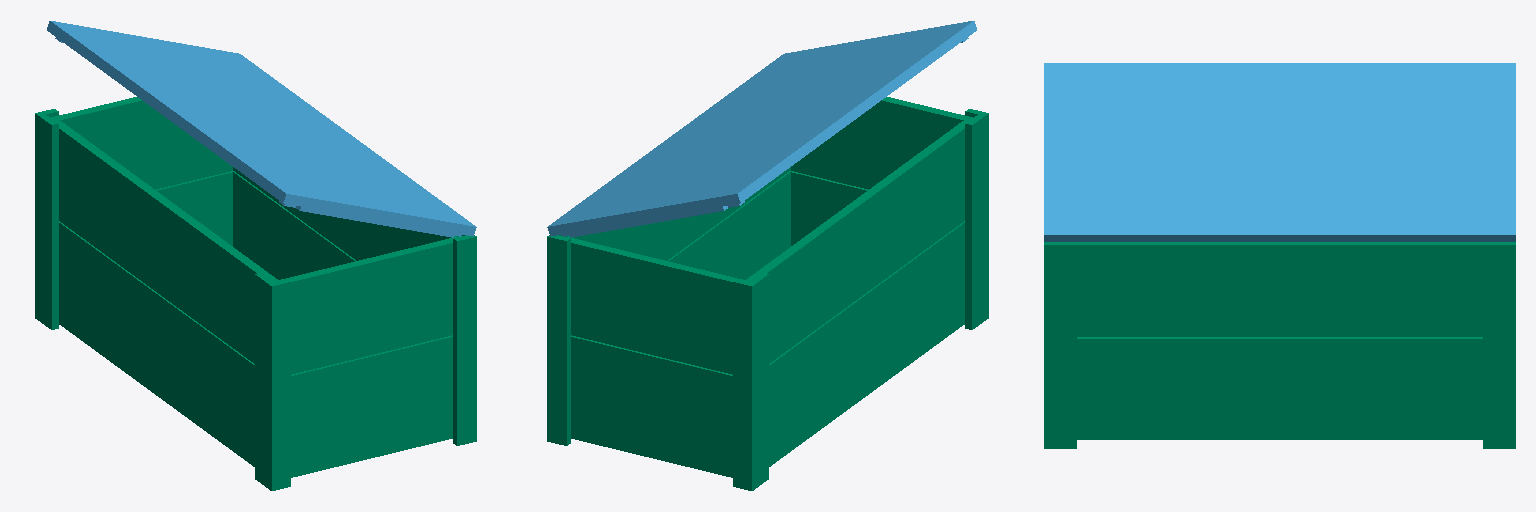
robot.urdf — partnet_ec82368d9dd6c6191503e17202cee2a3:
<?xml version="1.0" ?>
<robot name="partnet_ec82368d9dd6c6191503e17202cee2a3">
	<link name="base"/>
	<link name="link_0">
		<visual name="rotation_lid-1">
			<origin xyz="-0.8074719999999997 -0.2824324500270001 0.3838060606535223"/>
			<geometry>
				<mesh filename="textured_objs/original-24.obj"/>
			</geometry>
		</visual>
		<visual name="rotation_lid-1">
			<origin xyz="-0.8074719999999997 -0.2824324500270001 0.3838060606535223"/>
			<geometry>
				<mesh filename="textured_objs/original-30.obj"/>
			</geometry>
		</visual>
		<visual name="rotation_lid-1">
			<origin xyz="-0.8074719999999997 -0.2824324500270001 0.3838060606535223"/>
			<geometry>
				<mesh filename="textured_objs/original-26.obj"/>
			</geometry>
		</visual>
		<visual name="rotation_lid-1">
			<origin xyz="-0.8074719999999997 -0.2824324500270001 0.3838060606535223"/>
			<geometry>
				<mesh filename="textured_objs/original-29.obj"/>
			</geometry>
		</visual>
		<visual name="rotation_lid-1">
			<origin xyz="-0.8074719999999997 -0.2824324500270001 0.3838060606535223"/>
			<geometry>
				<mesh filename="textured_objs/original-31.obj"/>
			</geometry>
		</visual>
		<visual name="rotation_lid-1">
			<origin xyz="-0.8074719999999997 -0.2824324500270001 0.3838060606535223"/>
			<geometry>
				<mesh filename="textured_objs/original-32.obj"/>
			</geometry>
		</visual>
		<visual name="rotation_lid-1">
			<origin xyz="-0.8074719999999997 -0.2824324500270001 0.3838060606535223"/>
			<geometry>
				<mesh filename="textured_objs/original-25.obj"/>
			</geometry>
		</visual>
		<visual name="rotation_lid-1">
			<origin xyz="-0.8074719999999997 -0.2824324500270001 0.3838060606535223"/>
			<geometry>
				<mesh filename="textured_objs/original-27.obj"/>
			</geometry>
		</visual>
		<visual name="rotation_lid-1">
			<origin xyz="-0.8074719999999997 -0.2824324500270001 0.3838060606535223"/>
			<geometry>
				<mesh filename="textured_objs/original-28.obj"/>
			</geometry>
		</visual>
		<collision>
			<origin xyz="-0.8074719999999997 -0.2824324500270001 0.3838060606535223"/>
			<geometry>
				<mesh filename="textured_objs/original-24.obj"/>
			</geometry>
		</collision>
		<collision>
			<origin xyz="-0.8074719999999997 -0.2824324500270001 0.3838060606535223"/>
			<geometry>
				<mesh filename="textured_objs/original-30.obj"/>
			</geometry>
		</collision>
		<collision>
			<origin xyz="-0.8074719999999997 -0.2824324500270001 0.3838060606535223"/>
			<geometry>
				<mesh filename="textured_objs/original-26.obj"/>
			</geometry>
		</collision>
		<collision>
			<origin xyz="-0.8074719999999997 -0.2824324500270001 0.3838060606535223"/>
			<geometry>
				<mesh filename="textured_objs/original-29.obj"/>
			</geometry>
		</collision>
		<collision>
			<origin xyz="-0.8074719999999997 -0.2824324500270001 0.3838060606535223"/>
			<geometry>
				<mesh filename="textured_objs/original-31.obj"/>
			</geometry>
		</collision>
		<collision>
			<origin xyz="-0.8074719999999997 -0.2824324500270001 0.3838060606535223"/>
			<geometry>
				<mesh filename="textured_objs/original-32.obj"/>
			</geometry>
		</collision>
		<collision>
			<origin xyz="-0.8074719999999997 -0.2824324500270001 0.3838060606535223"/>
			<geometry>
				<mesh filename="textured_objs/original-25.obj"/>
			</geometry>
		</collision>
		<collision>
			<origin xyz="-0.8074719999999997 -0.2824324500270001 0.3838060606535223"/>
			<geometry>
				<mesh filename="textured_objs/original-27.obj"/>
			</geometry>
		</collision>
		<collision>
			<origin xyz="-0.8074719999999997 -0.2824324500270001 0.3838060606535223"/>
			<geometry>
				<mesh filename="textured_objs/original-28.obj"/>
			</geometry>
		</collision>
	</link>
	<joint name="joint_0" type="revolute">
		<origin xyz="0.8074719999999997 0.2824324500270001 -0.3838060606535223"/>
		<axis xyz="-1.0 0.0 0.0"/>
		<child link="link_0"/>
		<parent link="link_1"/>
		<limit lower="-0.3895574890451342" upper="4.2348668970390415"/>
	</joint>
	<link name="link_1">
		<visual name="base_body-2">
			<origin xyz="0 0 0"/>
			<geometry>
				<mesh filename="textured_objs/original-21.obj"/>
			</geometry>
		</visual>
		<visual name="base_body-2">
			<origin xyz="0 0 0"/>
			<geometry>
				<mesh filename="textured_objs/original-22.obj"/>
			</geometry>
		</visual>
		<visual name="base_body-2">
			<origin xyz="0 0 0"/>
			<geometry>
				<mesh filename="textured_objs/original-3.obj"/>
			</geometry>
		</visual>
		<visual name="base_body-2">
			<origin xyz="0 0 0"/>
			<geometry>
				<mesh filename="textured_objs/original-2.obj"/>
			</geometry>
		</visual>
		<visual name="base_body-2">
			<origin xyz="0 0 0"/>
			<geometry>
				<mesh filename="textured_objs/original-16.obj"/>
			</geometry>
		</visual>
		<visual name="base_body-2">
			<origin xyz="0 0 0"/>
			<geometry>
				<mesh filename="textured_objs/original-8.obj"/>
			</geometry>
		</visual>
		<visual name="base_body-2">
			<origin xyz="0 0 0"/>
			<geometry>
				<mesh filename="textured_objs/original-9.obj"/>
			</geometry>
		</visual>
		<visual name="base_body-2">
			<origin xyz="0 0 0"/>
			<geometry>
				<mesh filename="textured_objs/original-5.obj"/>
			</geometry>
		</visual>
		<visual name="base_body-2">
			<origin xyz="0 0 0"/>
			<geometry>
				<mesh filename="textured_objs/original-6.obj"/>
			</geometry>
		</visual>
		<visual name="base_body-2">
			<origin xyz="0 0 0"/>
			<geometry>
				<mesh filename="textured_objs/original-15.obj"/>
			</geometry>
		</visual>
		<visual name="base_body-2">
			<origin xyz="0 0 0"/>
			<geometry>
				<mesh filename="textured_objs/original-11.obj"/>
			</geometry>
		</visual>
		<visual name="base_body-2">
			<origin xyz="0 0 0"/>
			<geometry>
				<mesh filename="textured_objs/original-18.obj"/>
			</geometry>
		</visual>
		<visual name="base_body-2">
			<origin xyz="0 0 0"/>
			<geometry>
				<mesh filename="textured_objs/original-12.obj"/>
			</geometry>
		</visual>
		<visual name="base_body-2">
			<origin xyz="0 0 0"/>
			<geometry>
				<mesh filename="textured_objs/original-20.obj"/>
			</geometry>
		</visual>
		<visual name="base_body-2">
			<origin xyz="0 0 0"/>
			<geometry>
				<mesh filename="textured_objs/original-10.obj"/>
			</geometry>
		</visual>
		<visual name="base_body-2">
			<origin xyz="0 0 0"/>
			<geometry>
				<mesh filename="textured_objs/original-14.obj"/>
			</geometry>
		</visual>
		<visual name="base_body-2">
			<origin xyz="0 0 0"/>
			<geometry>
				<mesh filename="textured_objs/original-19.obj"/>
			</geometry>
		</visual>
		<collision>
			<origin xyz="0 0 0"/>
			<geometry>
				<mesh filename="textured_objs/original-21.obj"/>
			</geometry>
		</collision>
		<collision>
			<origin xyz="0 0 0"/>
			<geometry>
				<mesh filename="textured_objs/original-22.obj"/>
			</geometry>
		</collision>
		<collision>
			<origin xyz="0 0 0"/>
			<geometry>
				<mesh filename="textured_objs/original-3.obj"/>
			</geometry>
		</collision>
		<collision>
			<origin xyz="0 0 0"/>
			<geometry>
				<mesh filename="textured_objs/original-2.obj"/>
			</geometry>
		</collision>
		<collision>
			<origin xyz="0 0 0"/>
			<geometry>
				<mesh filename="textured_objs/original-16.obj"/>
			</geometry>
		</collision>
		<collision>
			<origin xyz="0 0 0"/>
			<geometry>
				<mesh filename="textured_objs/original-8.obj"/>
			</geometry>
		</collision>
		<collision>
			<origin xyz="0 0 0"/>
			<geometry>
				<mesh filename="textured_objs/original-9.obj"/>
			</geometry>
		</collision>
		<collision>
			<origin xyz="0 0 0"/>
			<geometry>
				<mesh filename="textured_objs/original-5.obj"/>
			</geometry>
		</collision>
		<collision>
			<origin xyz="0 0 0"/>
			<geometry>
				<mesh filename="textured_objs/original-6.obj"/>
			</geometry>
		</collision>
		<collision>
			<origin xyz="0 0 0"/>
			<geometry>
				<mesh filename="textured_objs/original-15.obj"/>
			</geometry>
		</collision>
		<collision>
			<origin xyz="0 0 0"/>
			<geometry>
				<mesh filename="textured_objs/original-11.obj"/>
			</geometry>
		</collision>
		<collision>
			<origin xyz="0 0 0"/>
			<geometry>
				<mesh filename="textured_objs/original-18.obj"/>
			</geometry>
		</collision>
		<collision>
			<origin xyz="0 0 0"/>
			<geometry>
				<mesh filename="textured_objs/original-12.obj"/>
			</geometry>
		</collision>
		<collision>
			<origin xyz="0 0 0"/>
			<geometry>
				<mesh filename="textured_objs/original-20.obj"/>
			</geometry>
		</collision>
		<collision>
			<origin xyz="0 0 0"/>
			<geometry>
				<mesh filename="textured_objs/original-10.obj"/>
			</geometry>
		</collision>
		<collision>
			<origin xyz="0 0 0"/>
			<geometry>
				<mesh filename="textured_objs/original-14.obj"/>
			</geometry>
		</collision>
		<collision>
			<origin xyz="0 0 0"/>
			<geometry>
				<mesh filename="textured_objs/original-19.obj"/>
			</geometry>
		</collision>
	</link>
	<joint name="joint_1" type="fixed">
		<origin rpy="1.570796326794897 0 -1.570796326794897" xyz="0 0 0"/>
		<child link="link_1"/>
		<parent link="base"/>
	</joint>
</robot>

--- Facts derived from the render (not from the file) ---
Views: 3 orthographic renders of the robot side by side, from view 1: azimuth 30°, elevation 25°; view 2: azimuth 150°, elevation 25°; view 3: azimuth 270°, elevation 25°.
Model partnet_ec82368d9dd6c6191503e17202cee2a3 with 3 links and 2 joints (1 revolute, 1 fixed), rooted at base, posed every joint at zero.
Links seen in each view (by area): view 1: link_1, link_0; view 2: link_1, link_0; view 3: link_1, link_0.
Boxes of the visible links, <box> form: link_1: <box>35,97,476,490</box>; link_0: <box>47,21,476,237</box>; link_1: <box>547,97,988,490</box>; link_0: <box>547,21,976,237</box>; link_1: <box>1044,242,1515,448</box>; link_0: <box>1044,63,1515,241</box>.
Size in the robot's own frame: 0.785 by 1.57 by 1.08 metres.
26 mesh visuals loaded from 26 distinct referenced files (26 OBJ).
